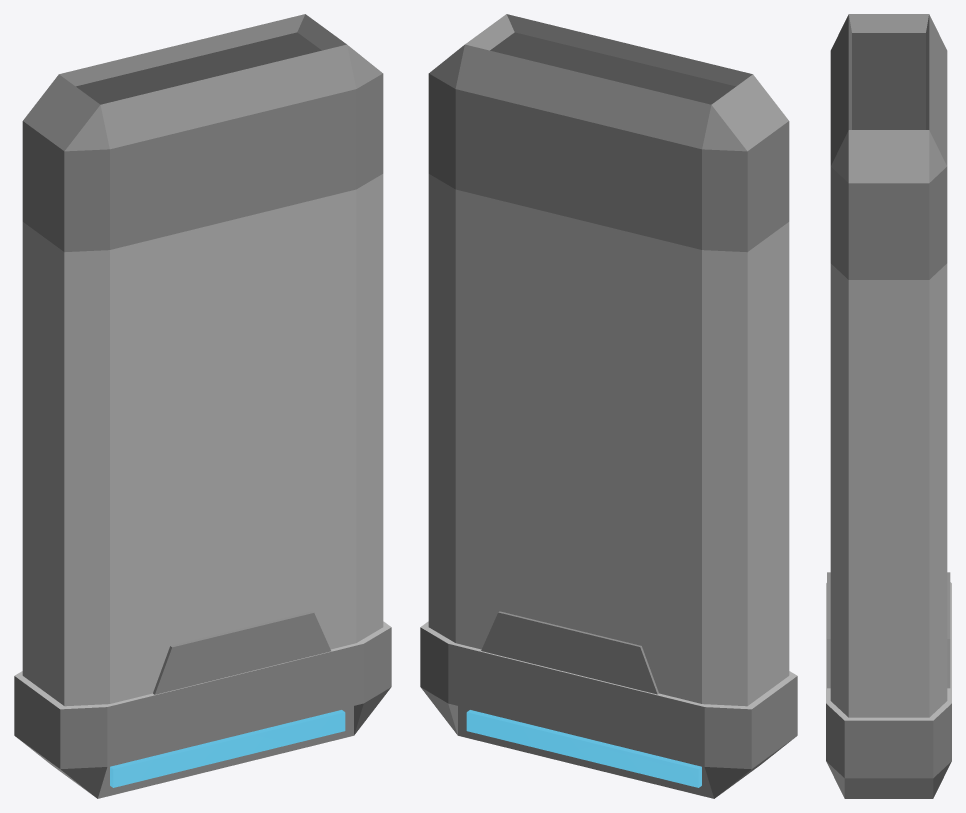
The model's file is SM_Mag_M.fbx.
The picture shows the model from 3 angles, left to right: view 1: azimuth 30°, elevation 25°; view 2: azimuth 150°, elevation 25°; view 3: azimuth 270°, elevation 25°; orthographic projection. The views are drawn at different scales.
Visible parts, largest first — view 1: SM_Mag_M; view 2: SM_Mag_M; view 3: SM_Mag_M.
Boxes of the visible parts, <box> form: SM_Mag_M: <box>14,14,391,798</box>; SM_Mag_M: <box>420,14,797,798</box>; SM_Mag_M: <box>826,14,951,798</box>.
Size of the model in its own units: 6.39 by 12.75 by 2.18.
